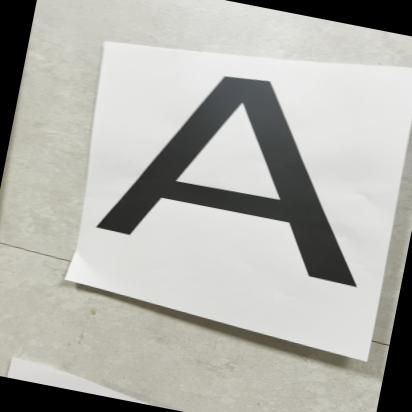seat: (83, 45, 412, 306)
